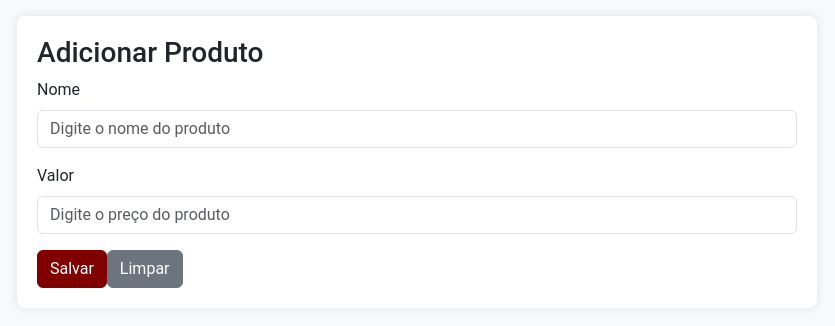
Test case: AddProduct Component › clears input fields on clicking Clear button
Type "Produto Teste" into the field labelled "Nome".
click(417, 129); type("Produto Teste")  # box x1=37 y1=110 x2=797 y2=148
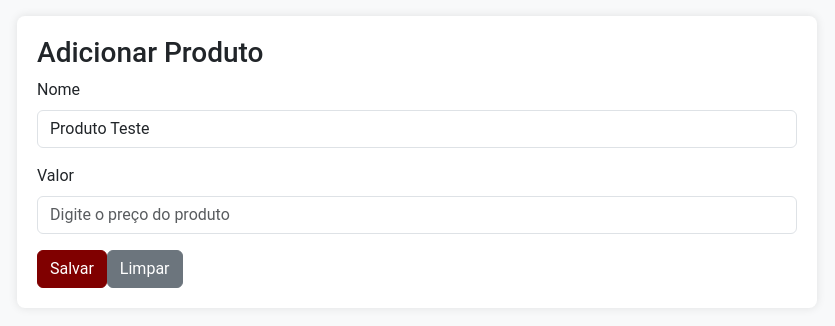
Type "100.00" into the number field labelled "Valor".
click(417, 215); type("100.00")  # box x1=37 y1=196 x2=797 y2=234
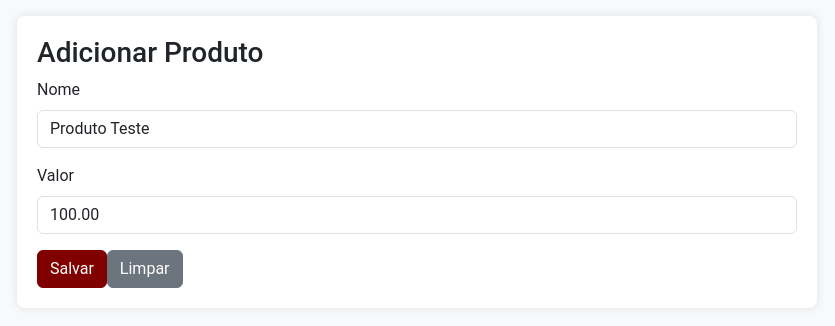
Click the button "Limpar".
click(145, 269)  # box x1=107 y1=250 x2=183 y2=288
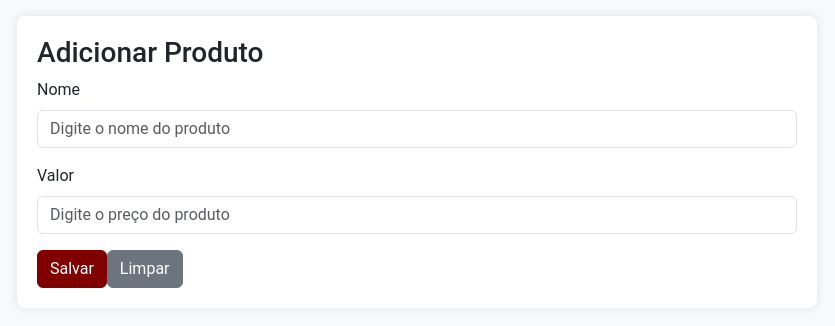
expect the field labelled "Nome" is empty: met, box x1=37 y1=110 x2=797 y2=148
expect the number field labelled "Valor" is empty: met, box x1=37 y1=196 x2=797 y2=234
